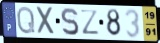3: (124, 7, 142, 40)
8: (105, 8, 122, 38)
Q: (16, 5, 36, 36)
S: (59, 7, 80, 37)
X: (36, 6, 57, 36)
Z: (79, 9, 100, 36)
